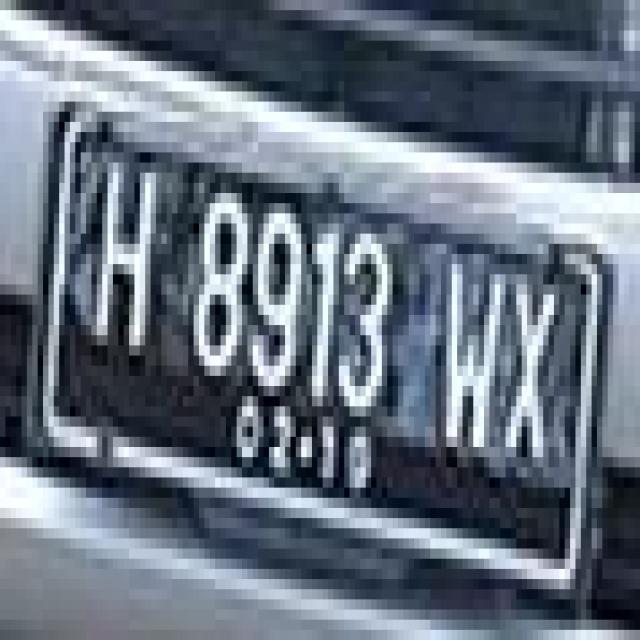1: (299, 207, 347, 414)
3: (336, 218, 402, 429)
8: (182, 182, 257, 395)
9: (241, 191, 312, 406)
H: (88, 150, 169, 360)
W: (432, 246, 514, 472)
X: (497, 264, 569, 482)
